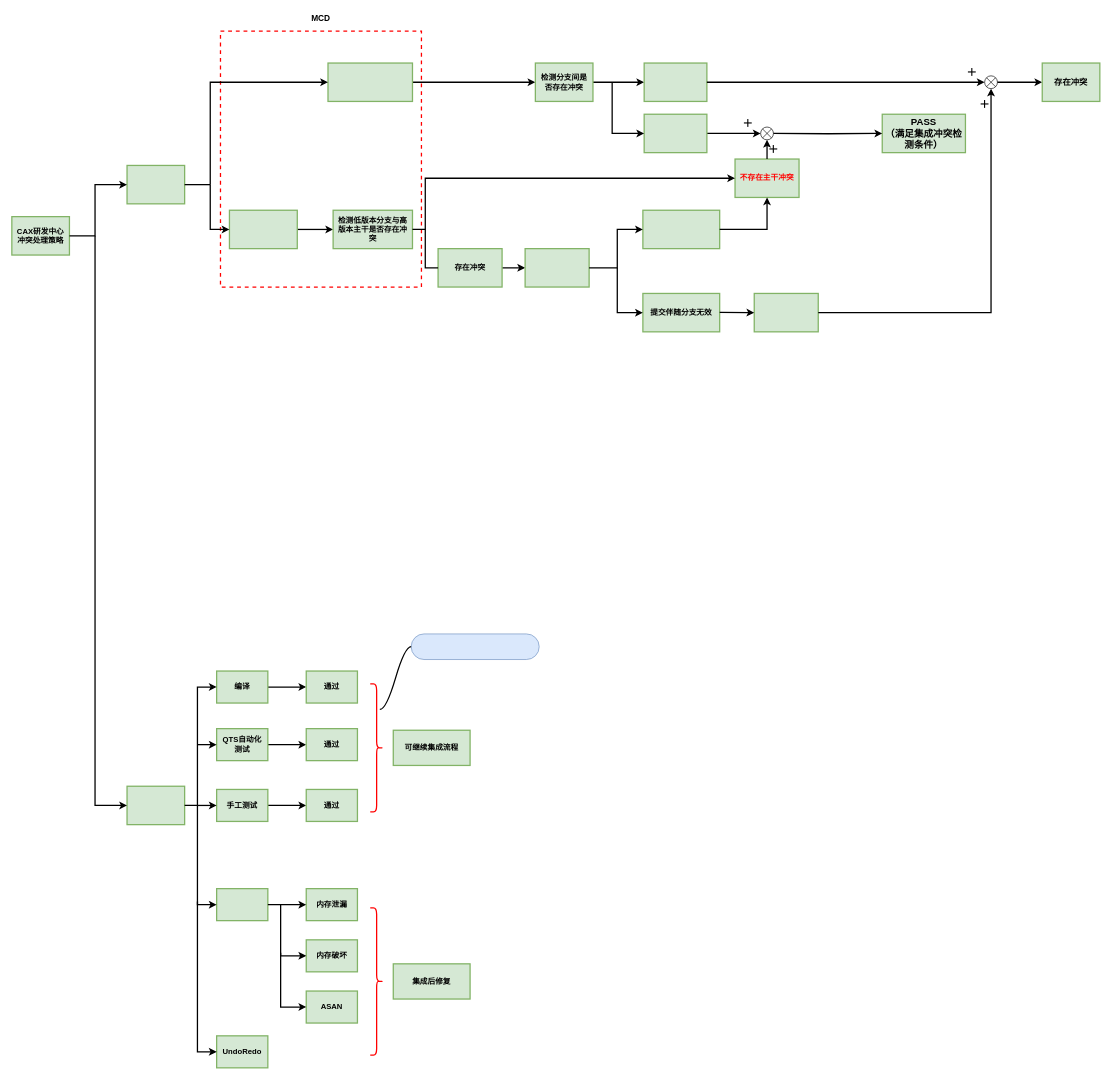
The diagram is 1111 pixels wide and 1079 high, and some of its shapes have lost their labels. The shapes that lost their labels are listed below. From the top down, each one's centre as x and y in pixels, then its label:
(x=370, y=82): 分支间检测 （相同版本内与不同版本间）
(x=675, y=82): 存在项目冲突
(x=675, y=133): 不存在项目冲突
(x=155, y=184): 文本冲突
(x=263, y=229): 低版本分支与高版本主干的检测
(x=681, y=229): 提交伴随分支有效
(x=556, y=267): 检测是否提交伴随分支
(x=786, y=312): 存在主干冲突
(x=475, y=646): 任意项未通过按照原流程反馈
(x=155, y=805): 逻辑冲突
(x=242, y=904): 内存
